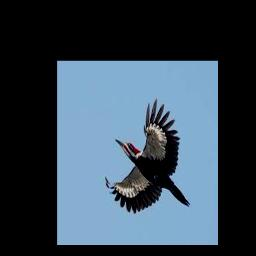Woodpecker: (105, 98, 190, 213)
